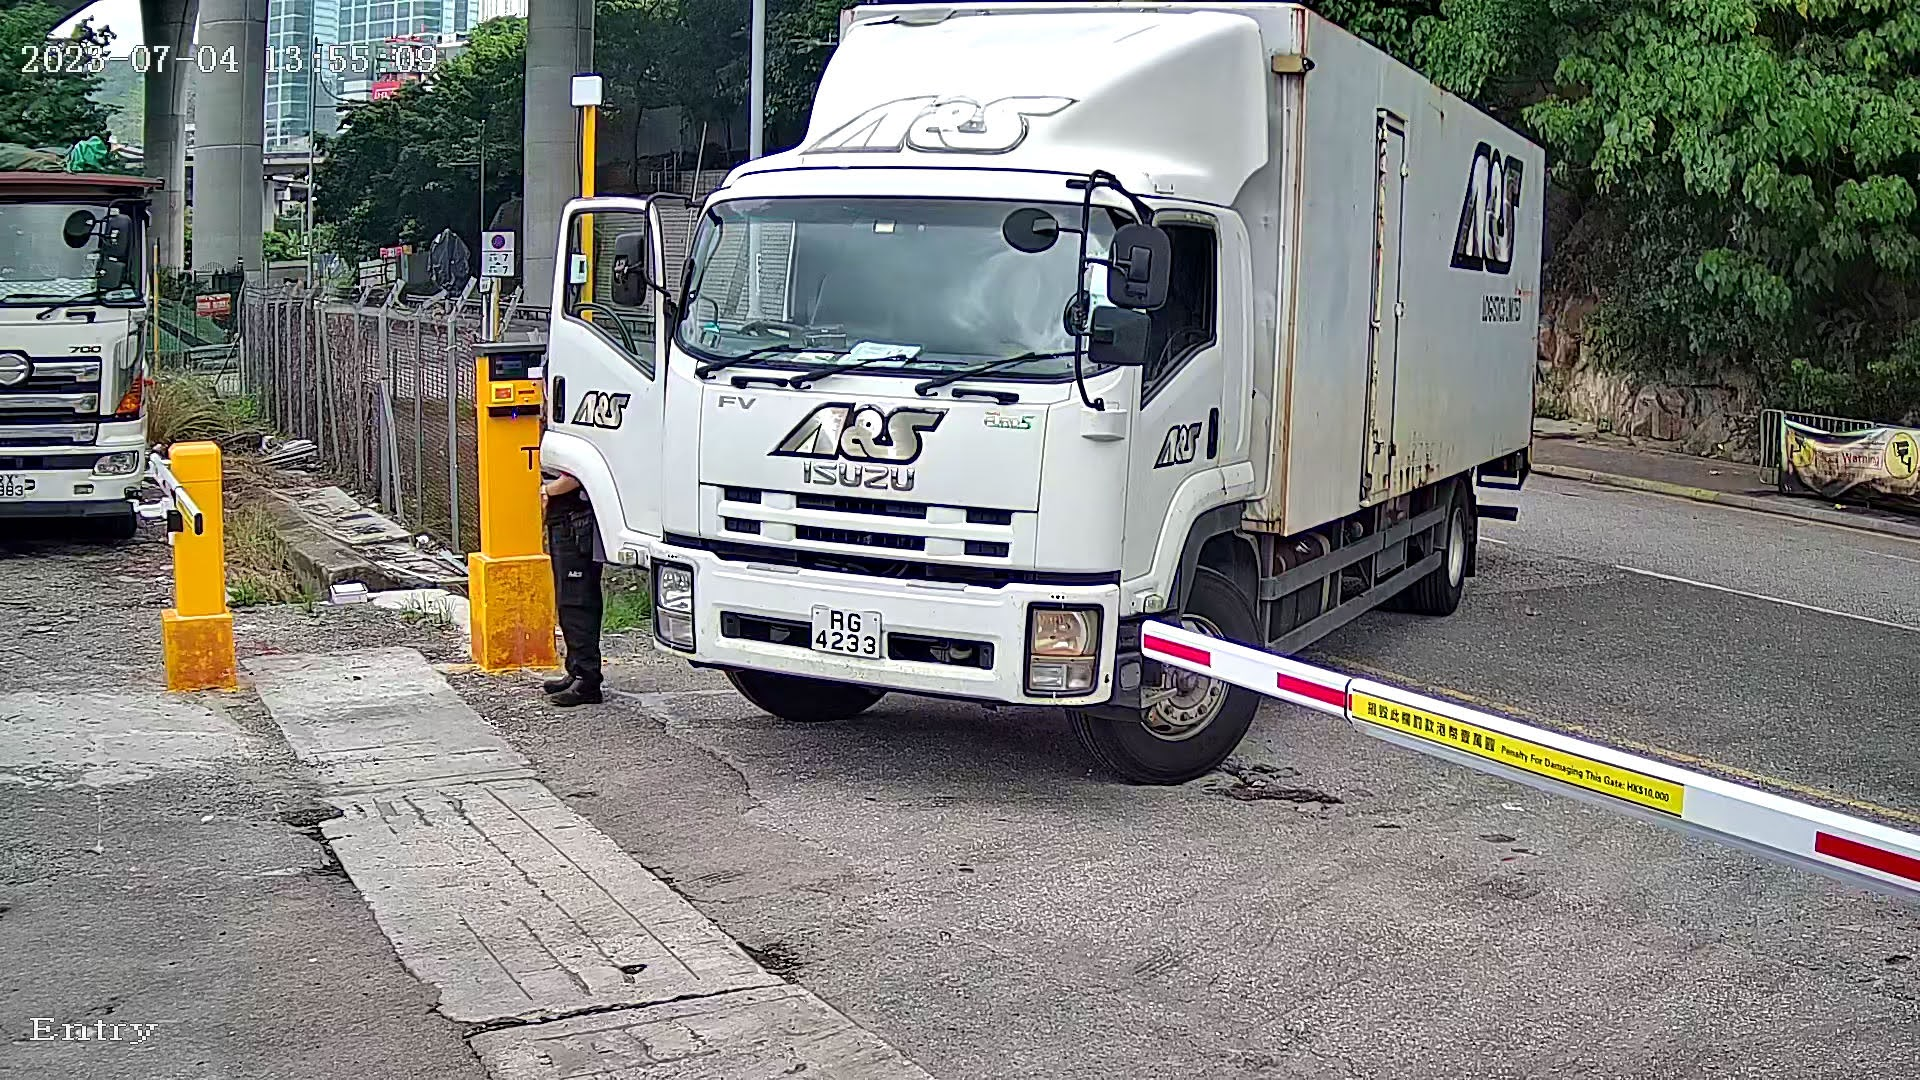truck: (525, 4, 1578, 785)
